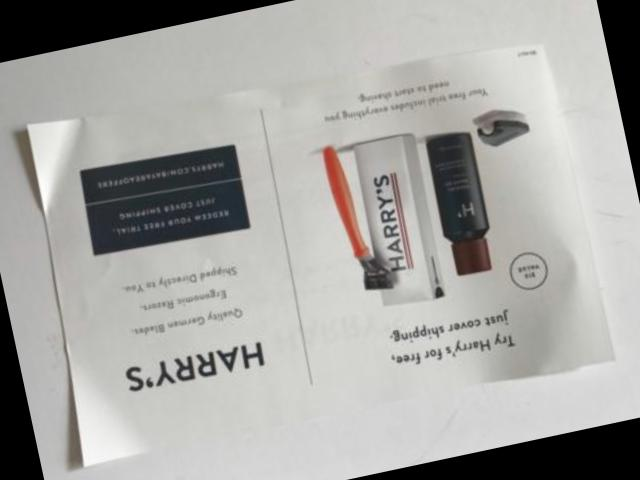cardboard paper: (31, 48, 614, 466)
